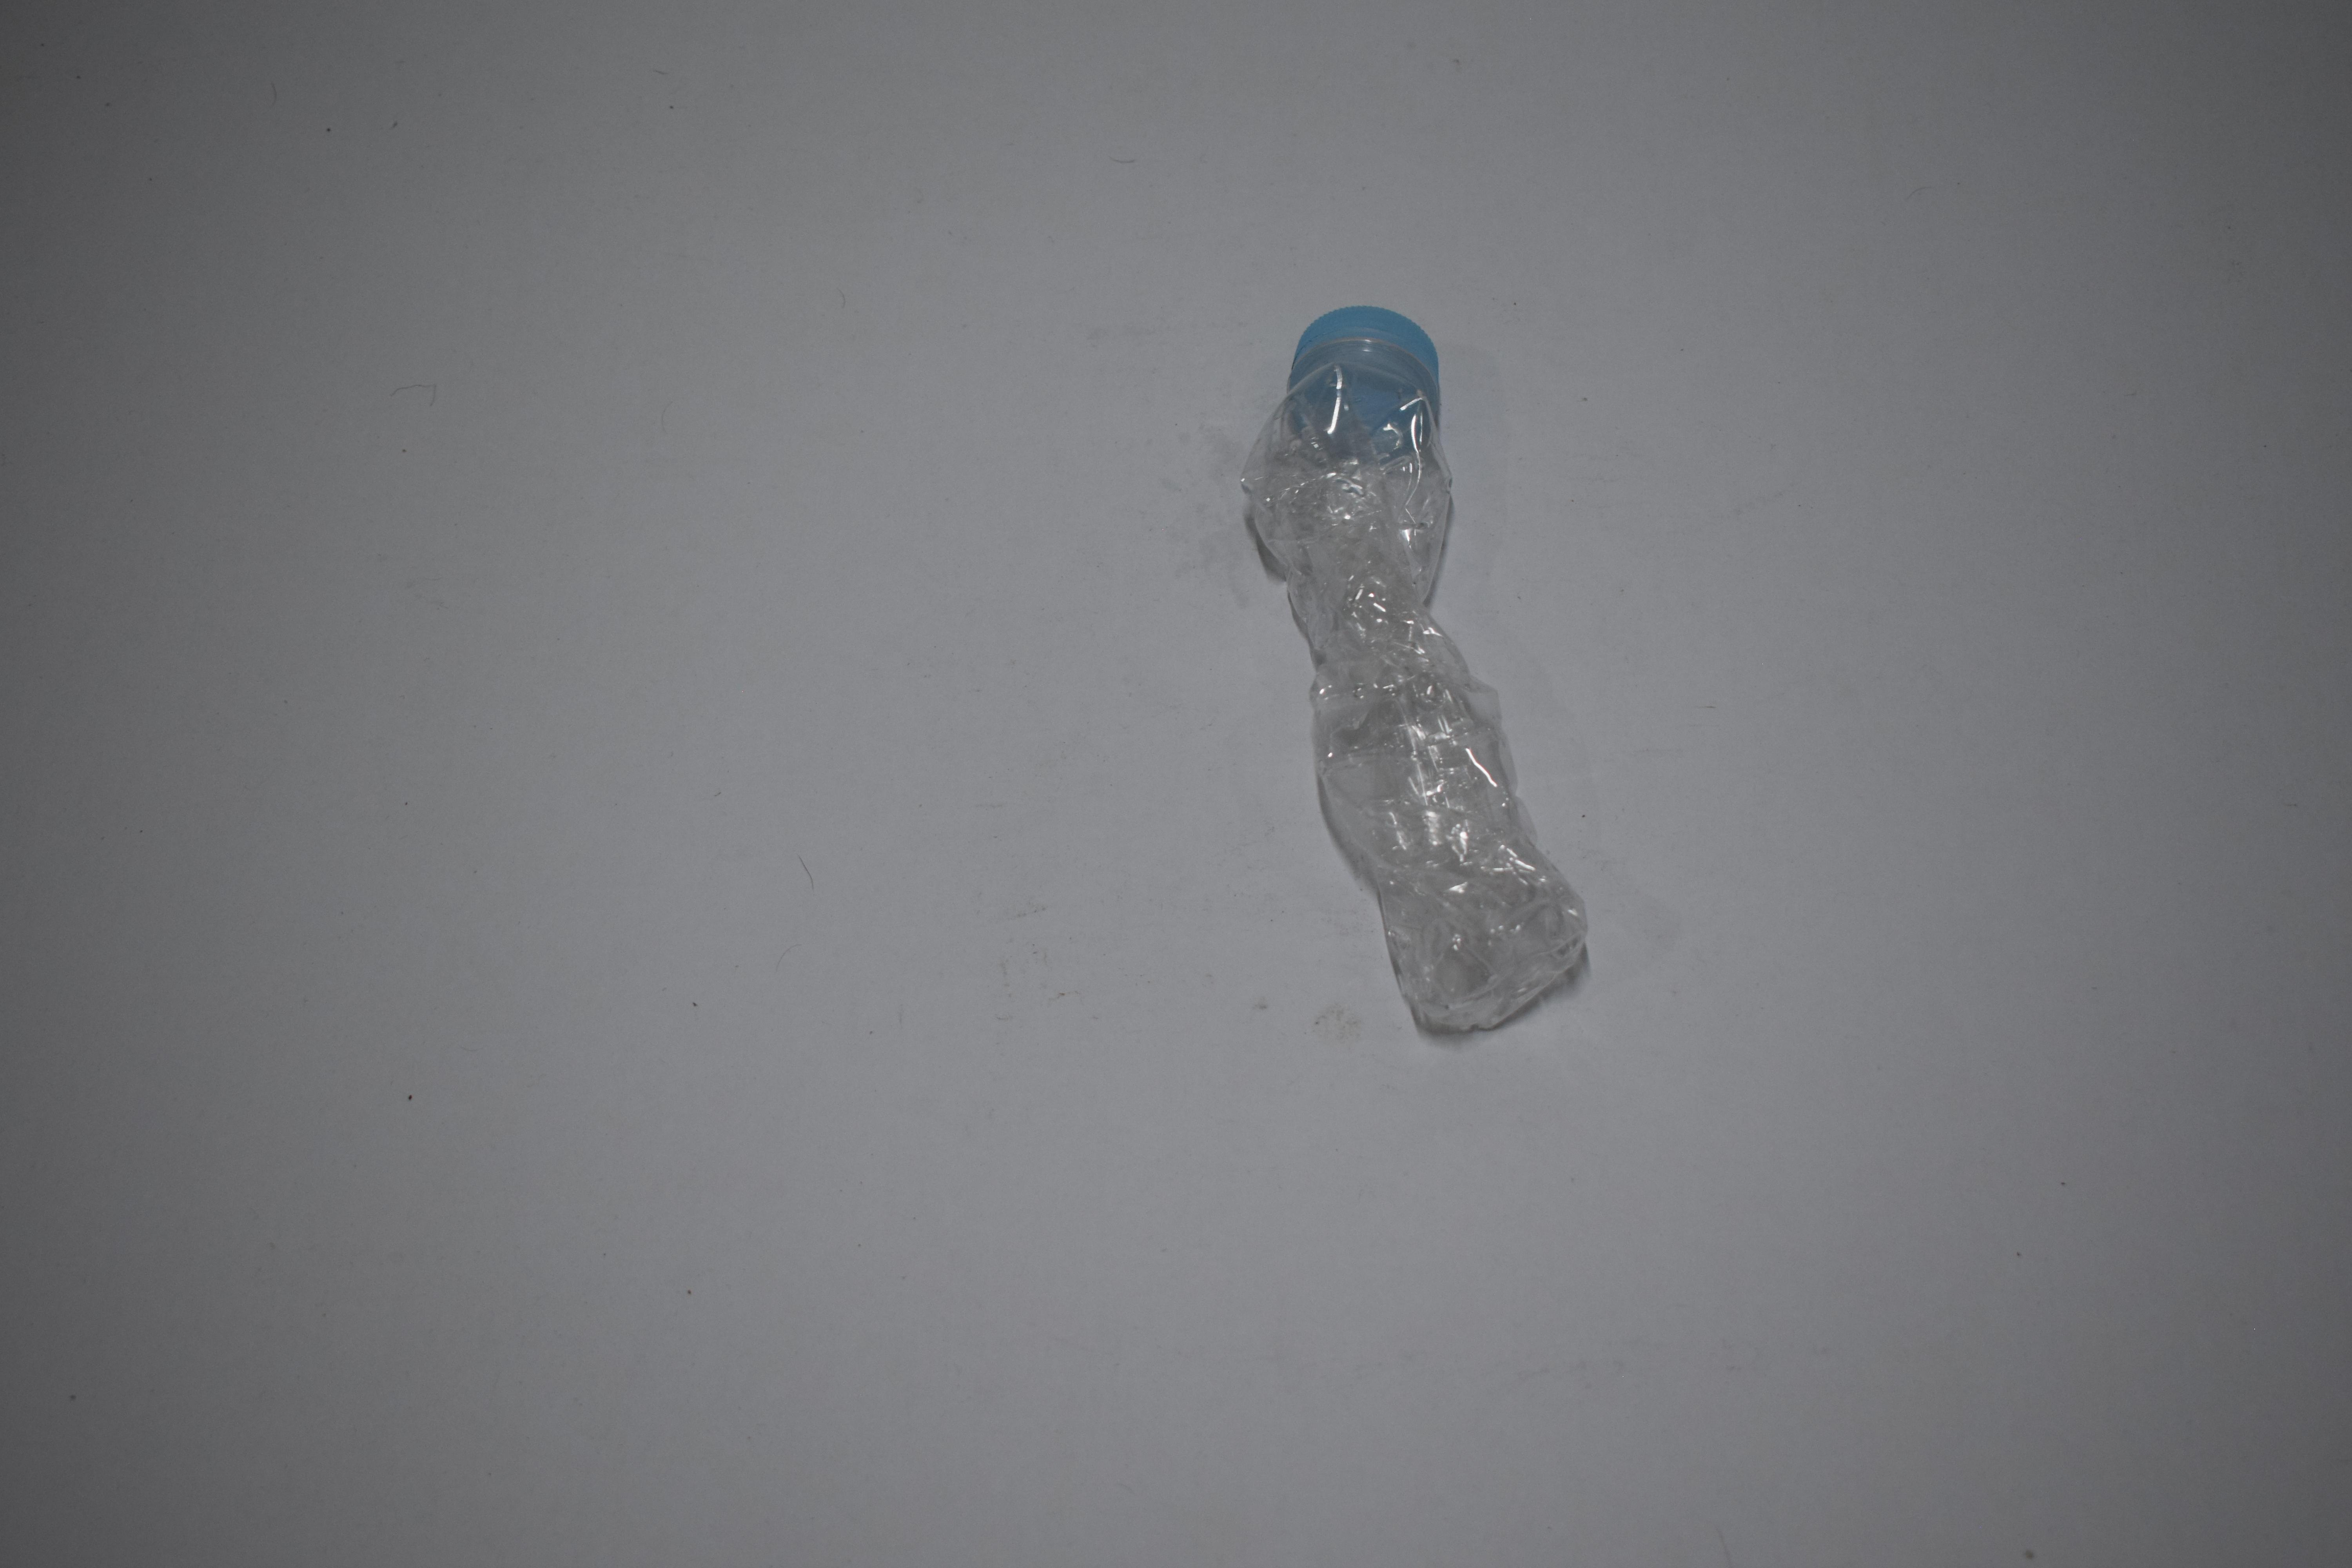bottle: (1298, 290, 1533, 1053)
